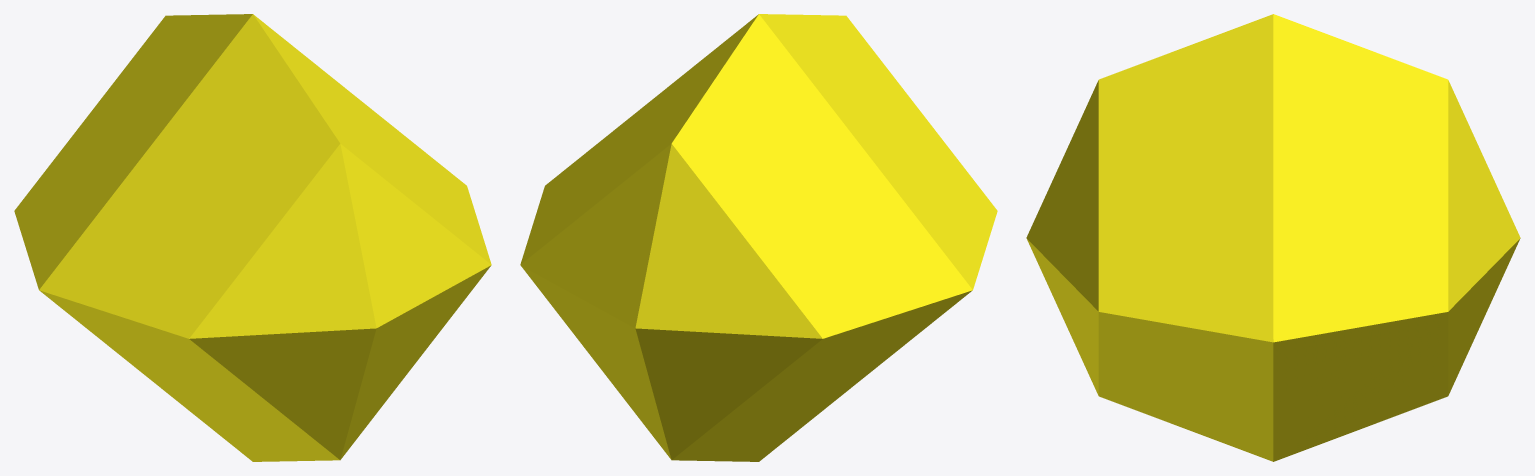
The model's file is sun.glb.
3 views of the same model, side by side, from view 1: azimuth 30°, elevation 25°; view 2: azimuth 150°, elevation 25°; view 3: azimuth 270°, elevation 25° (orthographic).
Parts seen in each view (by area): view 1: Sun; view 2: Sun; view 3: Sun.
Part boxes in pixels (<box>): Sun: <box>14,14,491,461</box>; Sun: <box>520,14,997,461</box>; Sun: <box>1026,14,1520,461</box>.
Bounding box in the file's own units: 11.16 × 11.16 × 11.16.
1 material, 1 textured.
